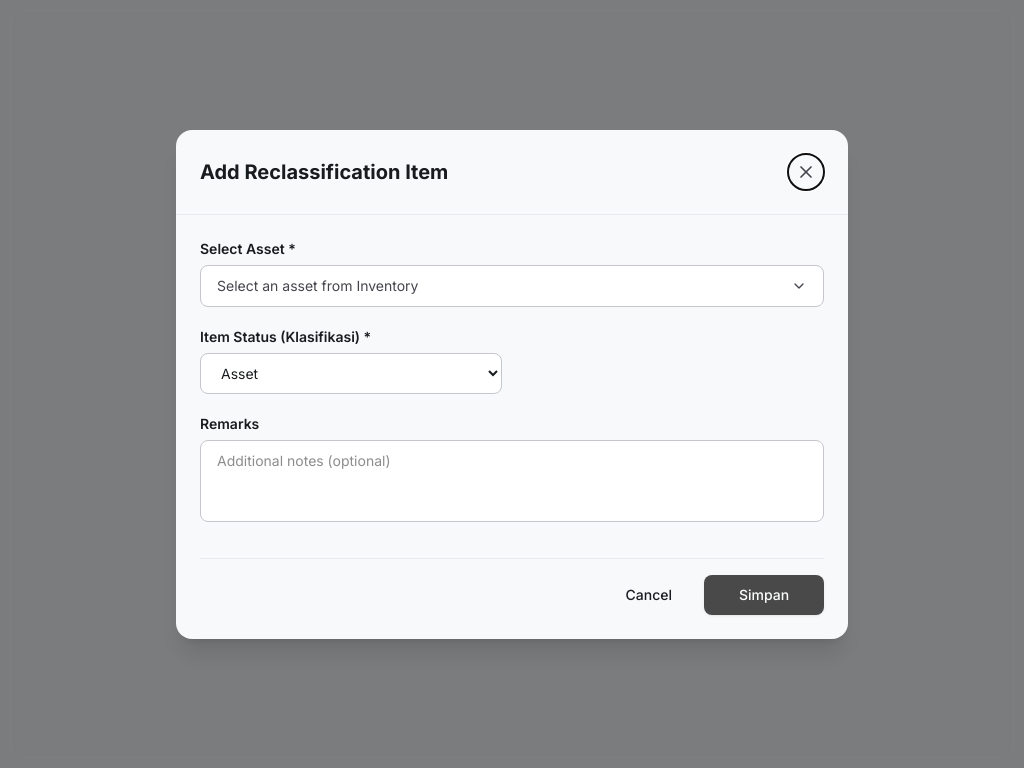
Test: AddReclassificationModal — chrome › keeps Simpan disabled until an asset is picked
The image size is (1024, 768).
Expected: the button "Simpan" is disabled, x1=704 y1=574 x2=824 y2=614
What coordinates should you click on to do the following:
click the button "Select an asset from Inventory"
I would click on:
 (318, 285)
Its box is x1=200 y1=264 x2=824 y2=306.
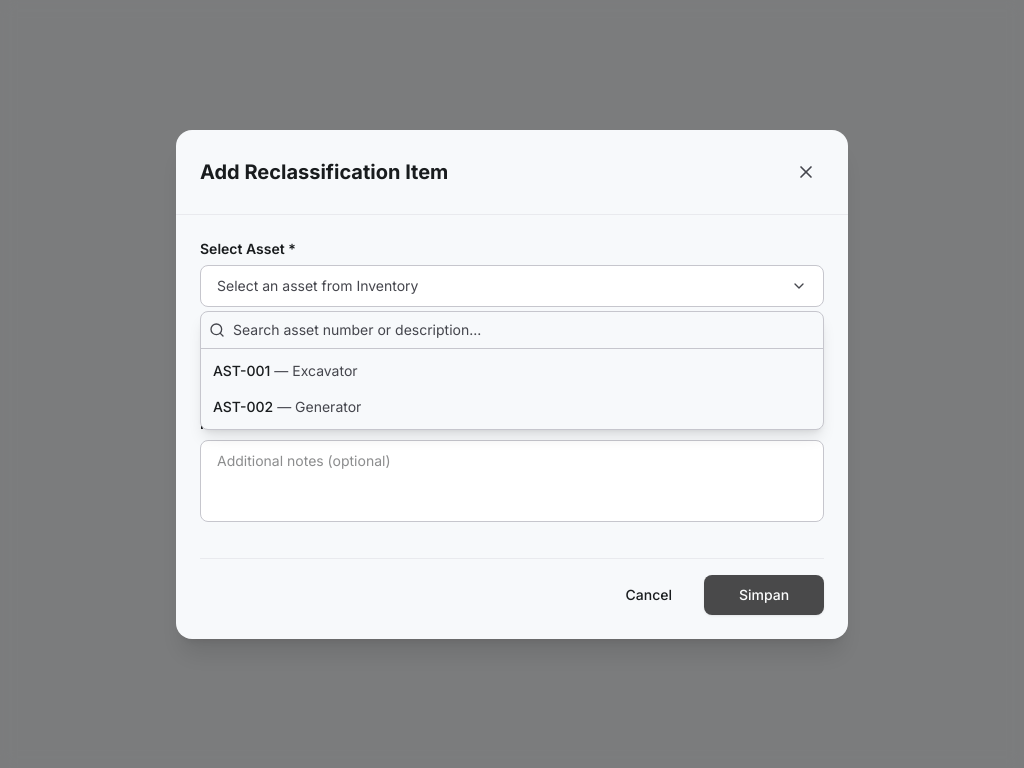
What coordinates should you click on to do the following:
click the text "AST-001"
I would click on:
 (242, 370)
Its box is x1=213 y1=362 x2=270 y2=378.
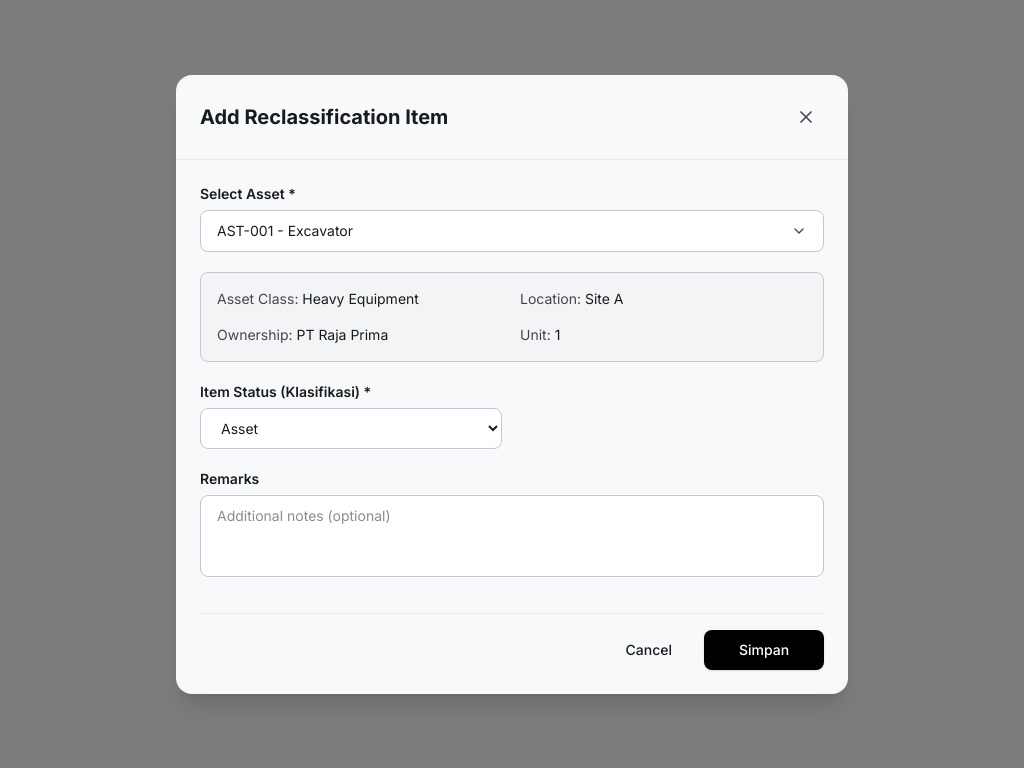
Result: the button "Simpan" is enabled at x1=704 y1=630 x2=824 y2=670
